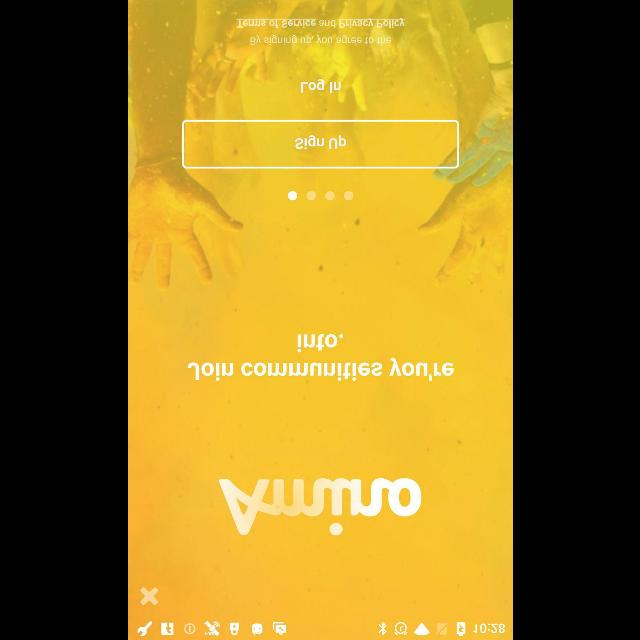backgroundimage: (128, 1, 512, 620)
icon: (140, 586, 158, 606)
image: (218, 477, 422, 535)
pageindicator: (286, 190, 354, 200)
text: (186, 334, 454, 382), (236, 18, 404, 46), (300, 78, 340, 94)
textbutton: (182, 120, 458, 168)
uppertaskbar: (128, 619, 512, 639)
